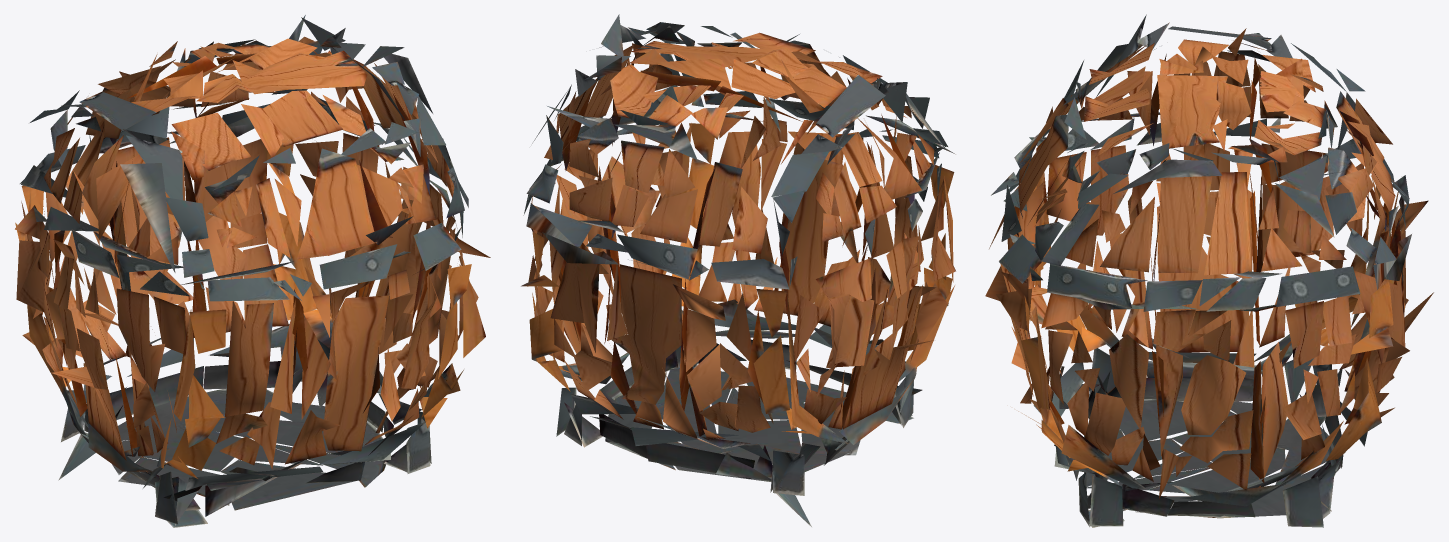
File: barile.glb
The picture shows the model from 3 angles, left to right: view 1: azimuth 30°, elevation 25°; view 2: azimuth 150°, elevation 25°; view 3: azimuth 270°, elevation 25°; orthographic projection. The views are drawn at different scales.
Visible parts, largest first — view 1: Mesh_0; view 2: Mesh_0; view 3: Mesh_0.
Part boxes in pixels (<box>): Mesh_0: <box>15,15,490,527</box>; Mesh_0: <box>521,14,955,526</box>; Mesh_0: <box>985,14,1433,527</box>.
Bounding box in the file's own units: 2.03 × 2.14 × 1.99.
1 material, 1 textured.
